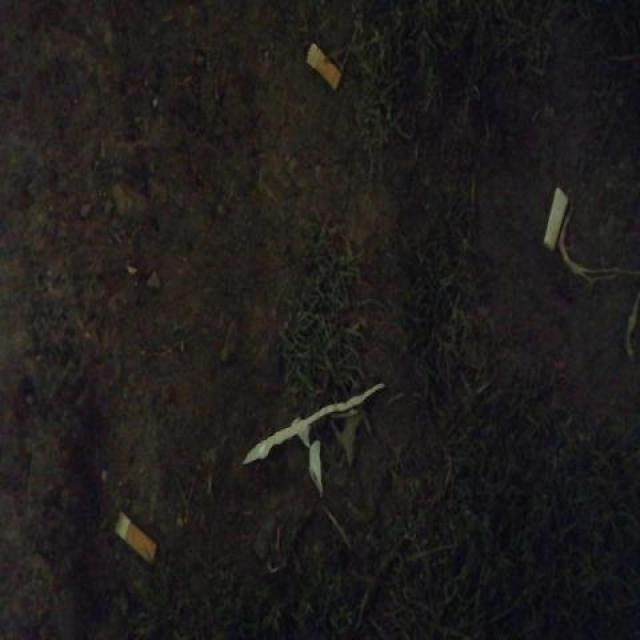non-organic waste: (111, 507, 160, 569), (303, 38, 345, 98), (539, 182, 573, 255)
